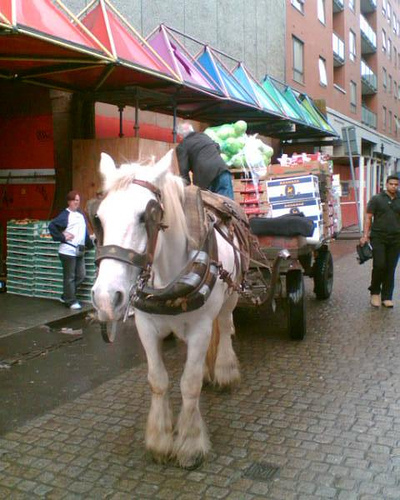horse: (90, 146, 258, 462)
